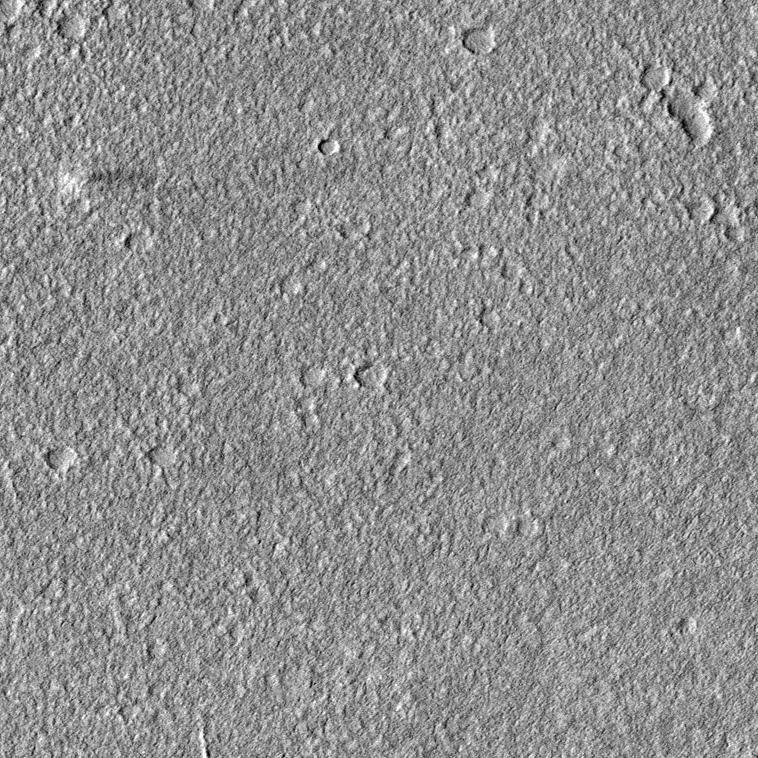dust_devil: (56, 163, 154, 199)
